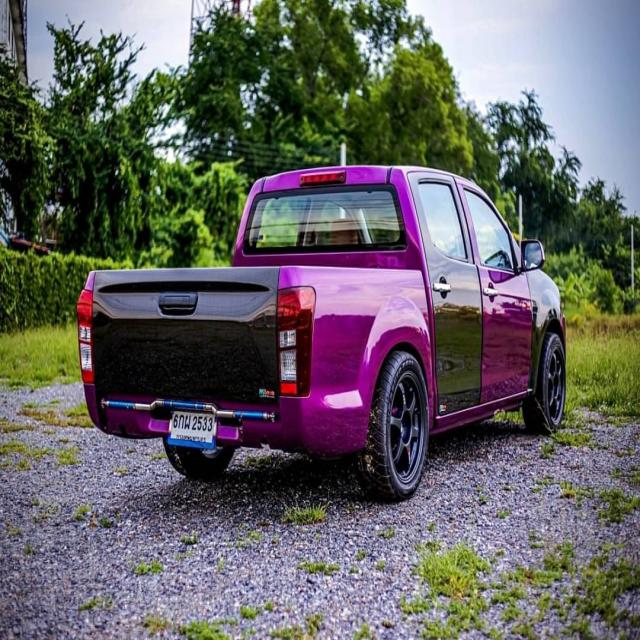license_plate: (166, 402, 220, 457)
